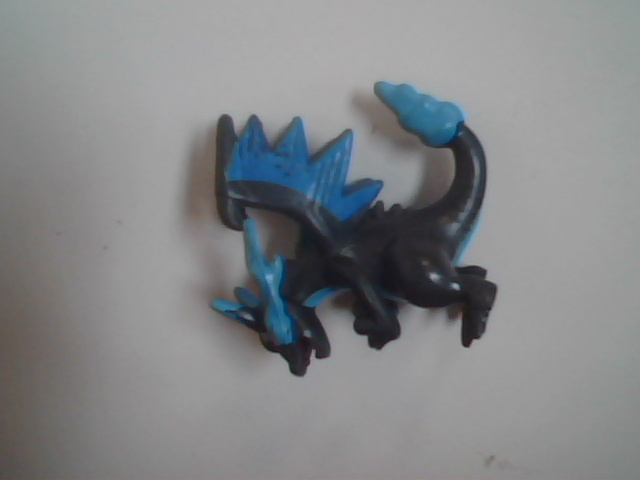charizard: (177, 53, 550, 421)
